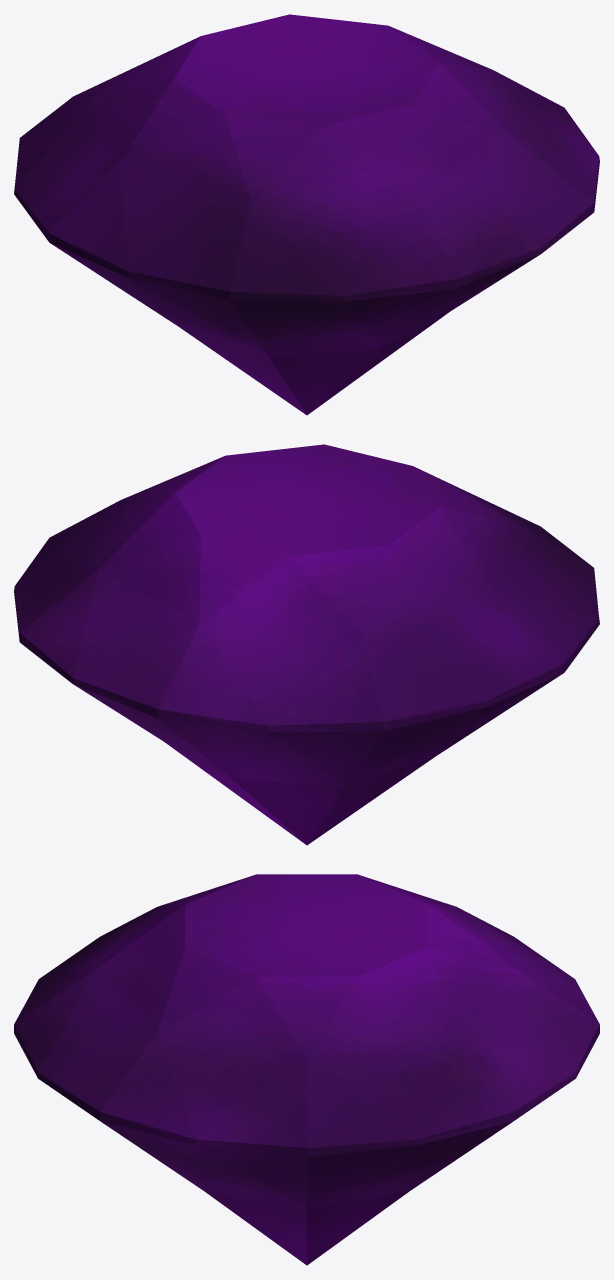
Rendered from Purple Chaos Emerald.obj.
3 renders of one model, top to bottom at view 1: azimuth 30°, elevation 25°; view 2: azimuth 150°, elevation 25°; view 3: azimuth 270°, elevation 25°, orthographic.
Parts seen in each view (by area): view 1: Object01; view 2: Object01; view 3: Object01.
Boxes of the visible parts, x1,y1,x2,y2 form: Object01: (14, 14, 599, 415); Object01: (14, 444, 599, 845); Object01: (14, 874, 599, 1265).
Size of the model in its own units: 151 by 96.96 by 151.
1 material, 1 textured.
